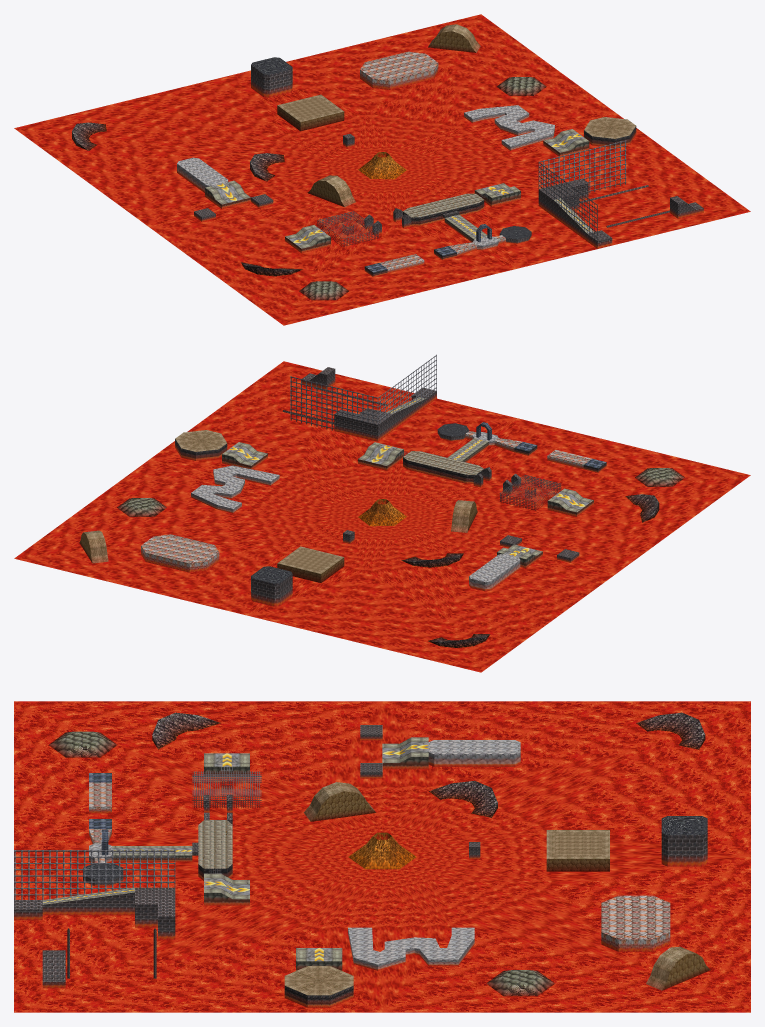
File: fire_land_all.glb
3 views of the same model, one above another, from view 1: azimuth 30°, elevation 25°; view 2: azimuth 150°, elevation 25°; view 3: azimuth 270°, elevation 25° (orthographic). The views are drawn at different scales.
Parts seen in each view (by area): view 1: fire_land_all; view 2: fire_land_all; view 3: fire_land_all.
Boxes of the visible parts, box(x1,y1,x2,y2) form: fire_land_all: box(14, 14, 750, 325); fire_land_all: box(14, 354, 750, 672); fire_land_all: box(14, 701, 750, 1012).
Bounding box in the file's own units: 16 × 1.5 × 16.
21 materials, 21 textured.
